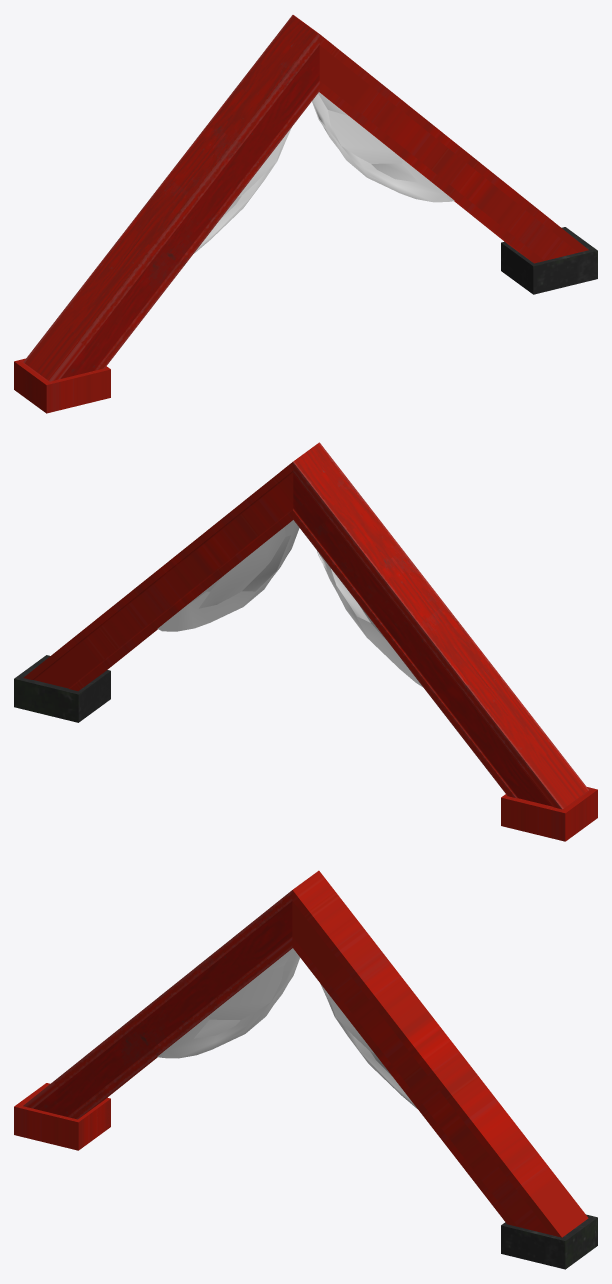
The model's file is objects_un_dlc1_slgateway01.gltf.
The picture shows the model from 3 angles, top to bottom: view 1: azimuth 30°, elevation 25°; view 2: azimuth 150°, elevation 25°; view 3: azimuth 330°, elevation 25°; orthographic projection.
Parts seen in each view (by area): view 1: um_objects_un_dlc1_slgateway01_model_lod2Shape:objects_un_dl (×2), um_objects_un_dlc1_slgateway01_model_lod0Shape:objects_un_dl (×2), um_objects_un_dlc1_slgateway01_model_lod1Shape:objects_un_dl (×2); view 2: um_objects_un_dlc1_slgateway01_model_lod0Shape:objects_un_dl (×2), um_objects_un_dlc1_slgateway01_model_lod2Shape:objects_un_dl (×2), um_objects_un_dlc1_slgateway01_model_lod1Shape:objects_un_dl (×2); view 3: um_objects_un_dlc1_slgateway01_model_lod2Shape:objects_un_dl (×2), um_objects_un_dlc1_slgateway01_model_lod1Shape:objects_un_dl (×2), um_objects_un_dlc1_slgateway01_model_lod0Shape:objects_un_dl (×2).
Boxes of the visible parts, <box> form: um_objects_un_dlc1_slgateway01_model_lod2Shape:objects_un_dl (×2): <box>24,34,588,381</box>; um_objects_un_dlc1_slgateway01_model_lod0Shape:objects_un_dl (×2): <box>14,15,597,413</box>; um_objects_un_dlc1_slgateway01_model_lod1Shape:objects_un_dl (×2): <box>14,91,597,413</box>; um_objects_un_dlc1_slgateway01_model_lod0Shape:objects_un_dl (×2): <box>14,443,597,841</box>; um_objects_un_dlc1_slgateway01_model_lod2Shape:objects_un_dl (×2): <box>34,442,588,808</box>; um_objects_un_dlc1_slgateway01_model_lod1Shape:objects_un_dl (×2): <box>14,463,597,841</box>; um_objects_un_dlc1_slgateway01_model_lod2Shape:objects_un_dl (×2): <box>23,871,562,1237</box>; um_objects_un_dlc1_slgateway01_model_lod1Shape:objects_un_dl (×2): <box>14,871,596,1268</box>; um_objects_un_dlc1_slgateway01_model_lod0Shape:objects_un_dl (×2): <box>15,871,597,1269</box>.
Size of the model in its own units: 12.91 by 6.94 by 1.32.
3 materials, 1 textured.
